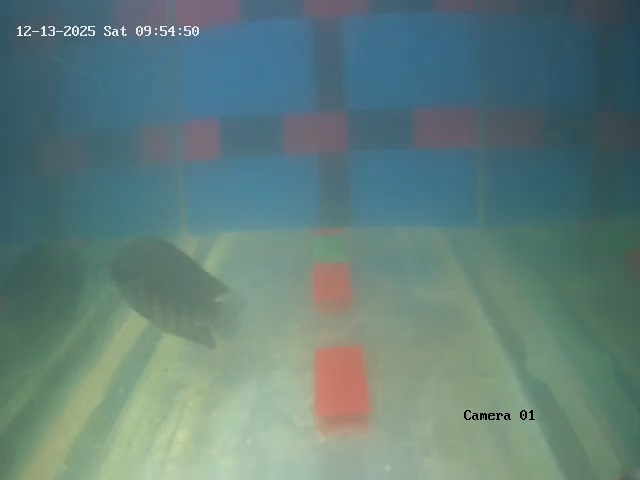fish: (102, 230, 234, 346)
